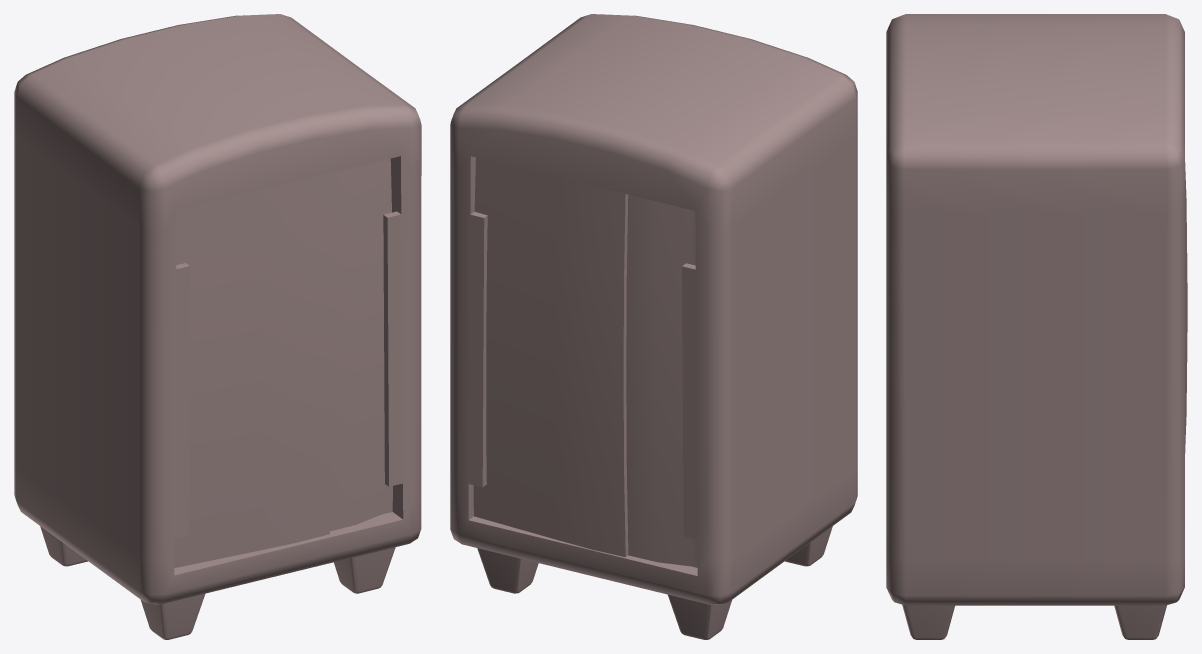
Rendered from BB_Napkinholder.fbx.
3 views of the same model, side by side, from view 1: azimuth 30°, elevation 25°; view 2: azimuth 150°, elevation 25°; view 3: azimuth 270°, elevation 25° (orthographic). The views are drawn at different scales.
Parts seen in each view (by area): view 1: polySurface925; view 2: polySurface925; view 3: polySurface925.
Part boxes in pixels (bbox=[...]): polySurface925: bbox=[14, 14, 421, 639]; polySurface925: bbox=[450, 14, 857, 639]; polySurface925: bbox=[886, 14, 1187, 639].
Size of the model in its own units: 401 by 678 by 355.
